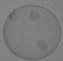small: (37, 40, 46, 50), (9, 13, 18, 22), (30, 12, 39, 20)
